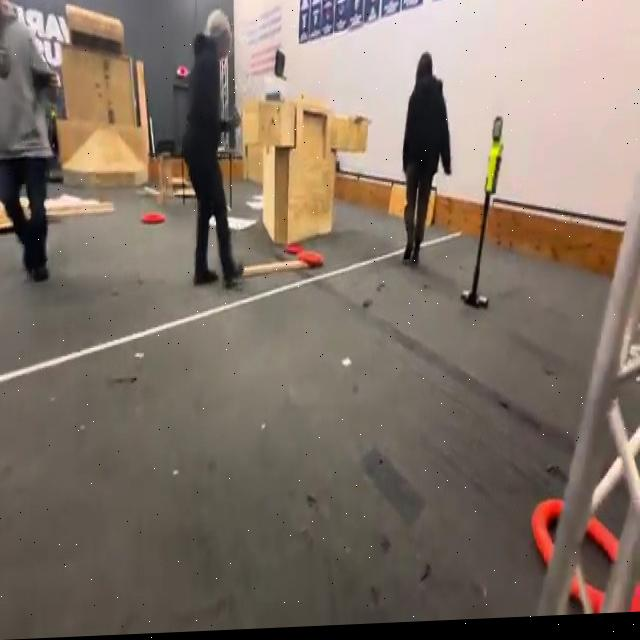note: (531, 495, 640, 621), (298, 251, 325, 272), (140, 210, 167, 227)
